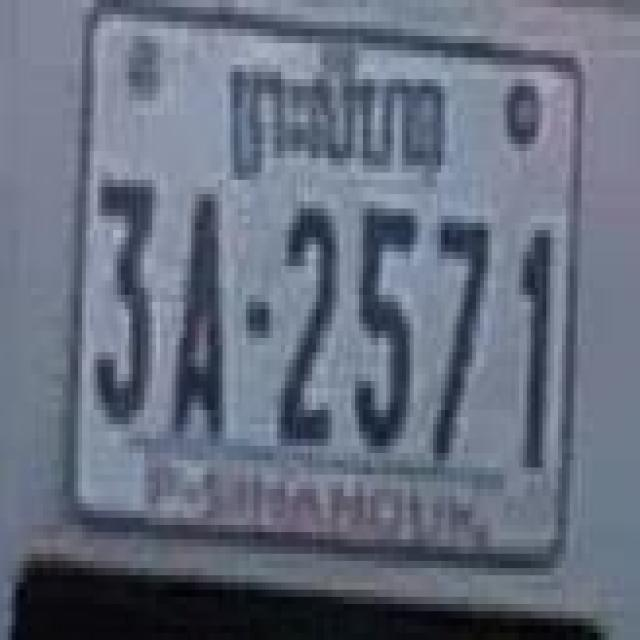Preah_Sihanouk: (231, 43, 448, 191)
